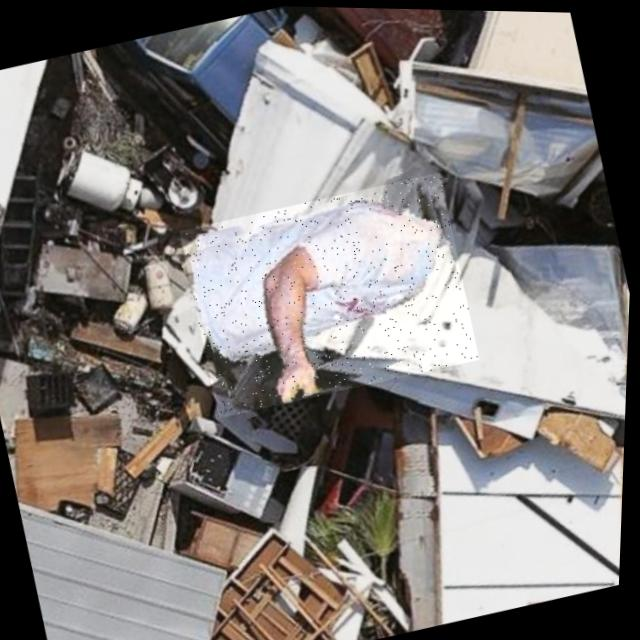Person in Rubble: (174, 165, 486, 422)
